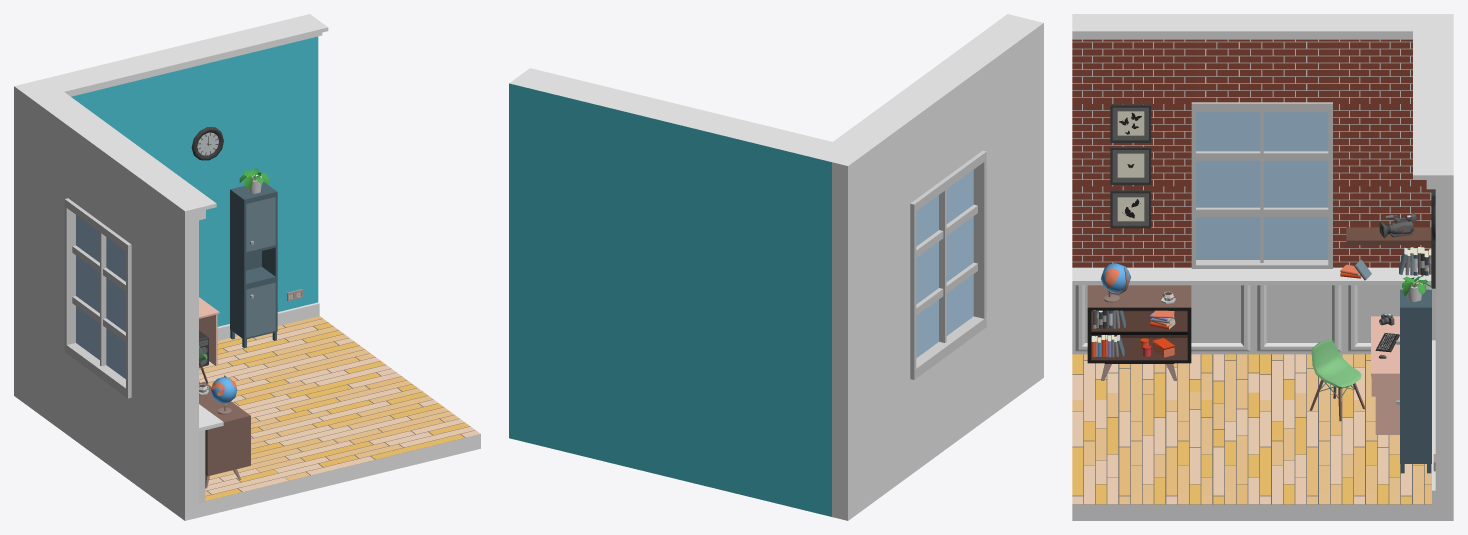
File: room_6.glb
The picture shows the model from 3 angles, left to right: view 1: azimuth 30°, elevation 25°; view 2: azimuth 150°, elevation 25°; view 3: azimuth 270°, elevation 25°; orthographic projection. The views are drawn at different scales.
Parts seen in each view (by area): view 1: Walls_094.001, floor_011.001, Walls_006.018, Walls_006.019, window_020.003, Walls_046.022, closet_025.001, Walls_006.021, Walls_006.020, shelf_066.001, Walls_003.042, Walls_003.041 (+6 smaller); view 2: Walls_094.001, Walls_006.019, Walls_006.018, window_020.003, Walls_006.021, Walls_006.020, Walls_003.042, Walls_003.044, Walls_003.041, Walls_003.043; view 3: floor_011.001, window_020.003, shelf_065.001, Walls_046.022, Walls_094.001, wall_005.004, wall_005.006, wall_005.007, wall_005.005, wall_005.002, Walls_006.018, shelf_066.001 (+23 smaller).
Part boxes in pixels (x1=…): Walls_094.001: x1=28, y1=14, x2=318, y2=326; floor_011.001: x1=199, y1=316, x2=480, y2=500; Walls_006.018: x1=130, y1=167, x2=198, y2=520; Walls_006.019: x1=14, y1=83, x2=82, y2=435; window_020.003: x1=64, y1=198, x2=131, y2=398; Walls_046.022: x1=199, y1=318, x2=480, y2=517; closet_025.001: x1=230, y1=181, x2=277, y2=348; Walls_006.021: x1=69, y1=123, x2=143, y2=242; Walls_006.020: x1=69, y1=355, x2=129, y2=480; shelf_066.001: x1=199, y1=382, x2=250, y2=488; Walls_003.042: x1=48, y1=23, x2=328, y2=94; Walls_003.041: x1=36, y1=20, x2=322, y2=96; Walls_094.001: x1=509, y1=76, x2=840, y2=516; Walls_006.019: x1=832, y1=116, x2=910, y2=520; Walls_006.018: x1=965, y1=19, x2=1043, y2=423; window_020.003: x1=910, y1=150, x2=986, y2=379; Walls_006.021: x1=895, y1=65, x2=980, y2=202; Walls_006.020: x1=911, y1=331, x2=980, y2=474; Walls_003.042: x1=523, y1=68, x2=844, y2=149; Walls_003.044: x1=833, y1=14, x2=1018, y2=144; Walls_003.041: x1=519, y1=73, x2=845, y2=155; Walls_003.043: x1=838, y1=17, x2=1026, y2=151; floor_011.001: x1=1072, y1=354, x2=1431, y2=504; window_020.003: x1=1191, y1=102, x2=1332, y2=268; shelf_065.001: x1=1072, y1=285, x2=1435, y2=354; Walls_046.022: x1=1072, y1=354, x2=1435, y2=520; Walls_094.001: x1=1435, y1=21, x2=1453, y2=520; wall_005.004: x1=1194, y1=39, x2=1329, y2=102; wall_005.006: x1=1072, y1=186, x2=1191, y2=267; wall_005.007: x1=1072, y1=39, x2=1194, y2=103; wall_005.005: x1=1072, y1=104, x2=1191, y2=186; wall_005.002: x1=1333, y1=104, x2=1426, y2=186; Walls_006.018: x1=1072, y1=14, x2=1194, y2=267; shelf_066.001: x1=1087, y1=285, x2=1191, y2=380.
Size of the model in its own units: 4.25 by 4.2 by 4.2.
Materials: 1 (1 with a texture image).
